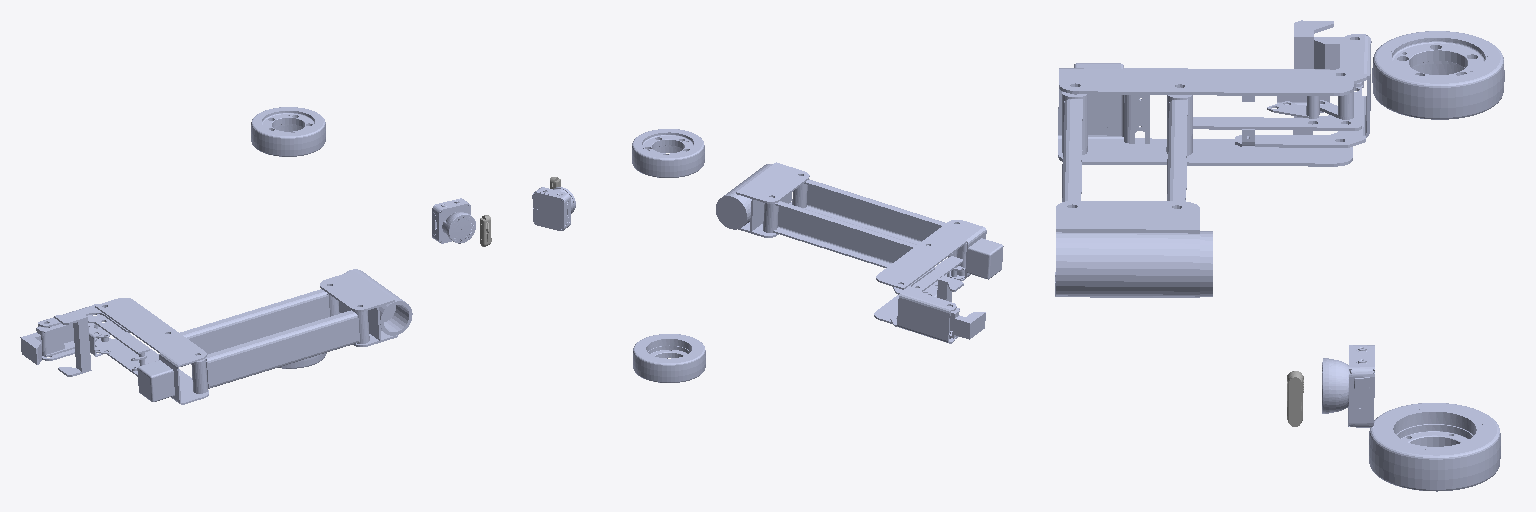
The robot description file, URDF, robot "tugging_robot_180424_4":
<?xml version="1.0" encoding="utf-8"?>
<!-- This URDF was automatically created by SolidWorks to URDF Exporter! Originally created by [author] ([email redacted]) 
     Commit Version: 1.6.0-4-g7f85cfe  Build Version: 1.6.7995.38578
     For more information, please see http://wiki.ros.org/sw_urdf_exporter -->
<robot
  name="tugging_robot_180424_4">
  
  <link
    name="base_footprint">
    <inertial>
      <origin
        xyz="0.37605 0.49174 0.51412"
        rpy="0 0 0" />
      <mass
        value="9.4248E-05" />
      <inertia
        ixx="7.0921E-09"
        ixy="1.0074E-56"
        ixz="-2.732E-42"
        iyy="7.0921E-09"
        iyz="2.549E-23"
        izz="4.7124E-11" />
    </inertial>
    <visual>
      <origin
        xyz="0 0 0"
        rpy="0 0 0" />
      <geometry>
        <mesh
          filename="package://tugging_robot_180424_4/meshes/base_footprint.STL" />
      </geometry>
      <material
        name="">
        <color
          rgba="0.79216 0.81961 0.93333 1" />
      </material>
    </visual>
    <collision>
      <origin
        xyz="0 0 0"
        rpy="0 0 0" />
      <geometry>
        <mesh
          filename="package://tugging_robot_180424_4/meshes/base_footprint.STL" />
      </geometry>
    </collision>
  </link>

  <link
    name="base_link">
    <inertial>
      <origin
        xyz="-0.050771 0.0017522 0.25697"
        rpy="0 0 0" />
      <mass
        value="150" />
      <inertia
        ixx="1.4246"
        ixy="-9.8747E-06"
        ixz="-0.032685"
        iyy="1.9347"
        iyz="2.6064E-06"
        izz="3.0189" />
    </inertial>
    <visual>
      <origin
        xyz="0 0 0"
        rpy="0 0 0" />
      <geometry>
        <mesh
          filename="package://tugging_robot_180424_4/meshes/base_link.STL" />
      </geometry>
      <material
        name="">
        <color
          rgba="0.79216 0.81961 0.93333 1" />
      </material>
    </visual>
    <collision>
      <origin
        xyz="0 0 0"
        rpy="0 0 0" />
      <geometry>
        <mesh
          filename="package://tugging_robot_180424_4/meshes/base_link.STL" />
      </geometry>
    </collision>
  </link>

  <joint
    name="base_joint"
    type="fixed">
    <origin
      xyz="0.40456 -0.53802 0.48728"
      rpy="1.5708 0 0" />
    <parent
      link="base_footprint" />
    <child
      link="base_link" />
    <axis
      xyz="0 0 0" />
  </joint>


<!-- WHEEL : LEFT -->

  <link
    name="left_wheel">
    <inertial>
      <origin
        xyz="-1.5453E-08 1.6511E-08 -0.006167"
        rpy="0 0 0" />
      <mass
        value="1.2164" />
      <inertia
        ixx="0.0044416"
        ixy="4.9256E-07"
        ixz="4.7872E-11"
        iyy="0.0044446"
        iyz="-7.4615E-11"
        izz="0.0082257" />
    </inertial>
    <visual>
      <origin
        xyz="0 0 0"
        rpy="0 0 0" />
      <geometry>
        <mesh
          filename="package://tugging_robot_180424_4/meshes/left_wheel.STL" />
      </geometry>
      <material
        name="">
        <color
          rgba="0.79216 0.81961 0.93333 1" />
      </material>
    </visual>
    <collision>
      <origin
        xyz="0 0 0"
        rpy="0 0 0" />
      <geometry>
        <mesh
          filename="package://tugging_robot_180424_4/meshes/left_wheel.STL" />
      </geometry>
    </collision>
  </link>

  <joint
    name="left_wheel_joint"
    type="continuous">
    <origin
      xyz="0.309472375376807 -0.624209545848738 -1.72498744527306"
      rpy="1.56206968053493 0 0" />
    <parent
      link="base_link" />
    <child
      link="left_wheel" />
    <axis
      xyz="0 0 -1" />
  </joint>
  
  <!-- WHEEL : RIGHT -->

  <link
    name="right_wheel">
    <inertial>
      <origin
        xyz="-7.958E-09 -2.1168E-08 0.021167"
        rpy="0 0 0" />
      <mass
        value="1.2164" />
      <inertia
        ixx="0.0044424"
        ixy="-1.4232E-06"
        ixz="-4.3749E-11"
        iyy="0.0044438"
        iyz="-1.164E-10"
        izz="0.0082257" />
    </inertial>
    <visual>
      <origin
        xyz="0 0 0"
        rpy="0 0 0" />
      <geometry>
        <mesh
          filename="package://tugging_robot_180424_4/meshes/right_wheel.STL" />
      </geometry>
      <material
        name="">
        <color
          rgba="0.79216 0.81961 0.93333 1" />
      </material>
    </visual>
    <collision>
      <origin
        xyz="0 0 0"
        rpy="0 0 0" />
      <geometry>
        <mesh
          filename="package://tugging_robot_180424_4/meshes/right_wheel.STL" />
      </geometry>
    </collision>
  </link>

  <joint
    name="right_wheel_joint"
    type="continuous">
    <origin
      xyz="0.309472375376661 0.0295036294348089 -1.73069231372716"
      rpy="1.56206968053493 0 0" />
    <parent
      link="base_link" />
    <child
      link="right_wheel" />
    <axis
      xyz="0 0 1" />
  </joint>

<!-- LIDAR  -->

  <link
    name="lidar">
    <inertial>
      <origin
        xyz="-7.8711E-05 4.4721E-05 -0.045208"
        rpy="0 0 0" />
      <mass
        value="0.5925" />
      <inertia
        ixx="0.00070857"
        ixy="-1.3149E-06"
        ixz="1.5954E-06"
        iyy="0.00070664"
        iyz="3.8011E-07"
        izz="0.00080931" />
    </inertial>
    <visual>
      <origin
        xyz="0 0 0"
        rpy="0 0 0" />
      <geometry>
        <mesh
          filename="package://tugging_robot_180424_4/meshes/lidar.STL" />
      </geometry>
      <material
        name="">
        <color
          rgba="0.79216 0.81961 0.93333 1" />
      </material>
    </visual>
    <collision>
      <origin
        xyz="0 0 0"
        rpy="0 0 0" />
      <geometry>
        <mesh
          filename="package://tugging_robot_180424_4/meshes/lidar.STL" />
      </geometry>
    </collision>
  </link>

  <joint
    name="lidar_joint"
    type="fixed">
    <origin
      xyz="0.747782635433581 -0.310335601647777 -1.5541544054617"
      rpy="-0.0087266462599706 0 0" />
    <parent
      link="base_link" />
    <child
      link="lidar" />
    <axis
      xyz="0 0 0" />
  </joint>

<!-- REAL SENSE -->

  <link
    name="intel_realsense">
    <inertial>
      <origin
        xyz="-0.013292 -0.0014079 2.342E-05"
        rpy="0 0 0" />
      <mass
        value="0.036474" />
      <inertia
        ixx="2.3405E-05"
        ixy="-2.1062E-07"
        ixz="-1.0143E-08"
        iyy="3.5064E-06"
        iyz="1.6635E-09"
        izz="2.3613E-05" />
    </inertial>
    <visual>
      <origin
        xyz="0 0 0"
        rpy="0 0 0" />
      <geometry>
        <mesh
          filename="package://tugging_robot_180424_4/meshes/intel_realsense.STL" />
      </geometry>
      <material
        name="">
        <color
          rgba="0.70196 0.70196 0.70196 1" />
      </material>
    </visual>
    <collision>
      <origin
        xyz="0 0 0"
        rpy="0 0 0" />
      <geometry>
        <mesh
          filename="package://tugging_robot_180424_4/meshes/intel_realsense.STL" />
      </geometry>
    </collision>
  </link>

  <joint
    name="realsense_joint"
    type="fixed">
    <origin
      xyz="0.807481873712309 -0.309970652719192 -1.51208576590048"
      rpy="-0.0087266462599706 0 0" />
    <parent
      link="base_link" />
    <child
      link="intel_realsense" />
    <axis
      xyz="0 0 0" />
  </joint>

<!-- TUG ARM -->

  <link
    name="tug_arm">
    <inertial>
      <origin
        xyz="-0.12555 -0.0083173 -0.12235"
        rpy="0 0 0" />
      <mass
        value="1.0" />
      <inertia
        ixx="0.0096756"
        ixy="-0.00063126"
        ixz="-0.0001031"
        iyy="0.019163"
        iyz="-6.8302E-06"
        izz="0.015469" />
    </inertial>
    <visual>
      <origin
        xyz="0 0 0"
        rpy="0 0 0" />
      <geometry>
        <mesh
          filename="package://tugging_robot_180424_4/meshes/tug_arm.STL" />
      </geometry>
      <material
        name="">
        <color
          rgba="0.79216 0.81961 0.93333 1" />
      </material>
    </visual>
    <collision>
      <origin
        xyz="0 0 0"
        rpy="0 0 0" />
      <geometry>
        <mesh
          filename="package://tugging_robot_180424_4/meshes/tug_arm.STL" />
      </geometry>
    </collision>
  </link>

  <joint
    name="arm_joint"
    type="revolute">
    <origin
      xyz="0.30747 -0.30878 -1.1467"
      rpy="-0.0087266 0 0" />
    <parent
      link="base_link" />
    <child
      link="tug_arm" />
    <axis
      xyz="0 0 -1" />
    <limit
      lower="-1.57"
      upper="1.57"
      effort="1"
      velocity="1" />
  </joint>

<!-- LATCH ARM -->

  <link
    name="latch_arm">
    <inertial>
      <origin
        xyz="0.11133 -0.2856 0.0010638"
        rpy="0 0 0" />
      <mass
        value="0.3616" />
      <inertia
        ixx="0.013425"
        ixy="0.00051155"
        ixz="-4.7445E-16"
        iyy="0.0040961"
        iyz="2.3614E-16"
        izz="0.012919" />
    </inertial>
    <visual>
      <origin
        xyz="0 0 0"
        rpy="0 0 0" />
      <geometry>
        <mesh
          filename="package://tugging_robot_180424_4/meshes/latch_arm.STL" />
      </geometry>
      <material
        name="">
        <color
          rgba="0.79216 0.81961 0.93333 1" />
      </material>
    </visual>
    <collision>
      <origin
        xyz="0 0 0"
        rpy="0 0 0" />
      <geometry>
        <mesh
          filename="package://tugging_robot_180424_4/meshes/latch_arm.STL" />
      </geometry>
    </collision>
  </link>

  <joint
    name="latching_joint"
    type="revolute">
    <origin
      xyz="-0.59363 -0.039326 -0.034733"
      rpy="1.5708 0.0092813 -3.0754" />
    <parent
      link="tug_arm" />
    <child
      link="latch_arm" />
    <axis
      xyz="0 0 1" />
    <limit
      lower="-1.57"
      upper="1.57"
      effort="1"
      velocity="1" />
  </joint>

<!-- SICK VISIONARY T MINI -->

  <link
    name="sick_visionary_t_mini">
    <inertial>
      <origin
        xyz="-0.035127 -2.2204E-16 -1.7764E-15"
        rpy="0 0 0" />
      <mass
        value="0.4281" />
      <inertia
        ixx="0.00043558"
        ixy="7.1151E-20"
        ixz="-5.7031E-20"
        iyy="0.00038307"
        iyz="2.7752E-19"
        izz="0.00039974" />
    </inertial>
    <visual>
      <origin
        xyz="0 0 0"
        rpy="0 0 0" />
      <geometry>
        <mesh
          filename="package://tugging_robot_180424_4/meshes/sick_visionary_t_mini.STL" />
      </geometry>
      <material
        name="">
        <color
          rgba="0.79216 0.81961 0.93333 1" />
      </material>
    </visual>
    <collision>
      <origin
        xyz="0 0 0"
        rpy="0 0 0" />
      <geometry>
        <mesh
          filename="package://tugging_robot_180424_4/meshes/sick_visionary_t_mini.STL" />
      </geometry>
    </collision>
  </link>

  <joint
    name="sick_camera_mini"
    type="fixed">
    <origin
      xyz="0.15033 -0.030015 -0.00031445"
      rpy="-1.579 0 0.0092813" />
    <parent
      link="latch_arm" />
    <child
      link="sick_visionary_t_mini" />
    <axis
      xyz="0 0 0" />
    <limit
      lower="0"
      upper="0"
      effort="1"
      velocity="1" />
  </joint>

</robot>

--- Facts derived from the render (not from the file) ---
Views: 3 orthographic renders of the robot side by side, from view 1: azimuth 30°, elevation 25°; view 2: azimuth 150°, elevation 25°; view 3: azimuth 270°, elevation 25°.
Robot: tugging_robot_180424_4 — 9 links, 8 joints (2 revolute, 2 continuous, 4 fixed); root link base_footprint; default pose: every joint at zero.
Visible links, largest first — view 1: tug_arm, latch_arm, right_wheel, lidar, sick_visionary_t_mini; view 2: tug_arm, latch_arm, left_wheel, right_wheel, lidar, sick_visionary_t_mini; view 3: latch_arm, tug_arm, right_wheel, left_wheel, lidar, intel_realsense.
Link boxes in pixels (x1=…): tug_arm: x1=167, y1=269, x2=412, y2=393; latch_arm: x1=20, y1=298, x2=208, y2=404; right_wheel: x1=251, y1=107, x2=325, y2=156; lidar: x1=432, y1=198, x2=475, y2=243; sick_visionary_t_mini: x1=137, y1=360, x2=174, y2=401; tug_arm: x1=716, y1=162, x2=958, y2=267; latch_arm: x1=874, y1=220, x2=986, y2=343; left_wheel: x1=633, y1=334, x2=705, y2=382; right_wheel: x1=632, y1=129, x2=704, y2=177; lidar: x1=532, y1=187, x2=575, y2=230; sick_visionary_t_mini: x1=967, y1=238, x2=1003, y2=279; latch_arm: x1=1058, y1=20, x2=1371, y2=166; tug_arm: x1=1055, y1=92, x2=1212, y2=297; right_wheel: x1=1372, y1=31, x2=1504, y2=119; left_wheel: x1=1369, y1=403, x2=1500, y2=491; lidar: x1=1322, y1=345, x2=1374, y2=427; intel_realsense: x1=1287, y1=371, x2=1303, y2=426.
Bounding box of the posed robot: 1.4 × 0.6853 × 0.6874 m (x, y, z).
Meshes: 9 distinct files referenced, 7 mesh visuals loaded (7 binary STL); not drawn: 2 (reference not matched to a file when rendering).
